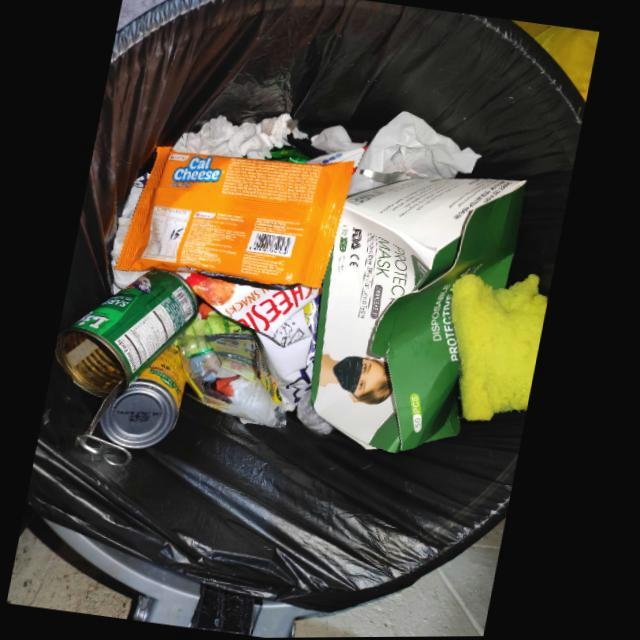aluminum: (60, 270, 203, 467), (106, 344, 192, 449)
cardboard: (316, 178, 529, 453)
food_wrapper: (119, 146, 359, 291), (181, 272, 323, 405)
paper: (175, 114, 294, 161)
plastic_sachet: (212, 335, 263, 381)
